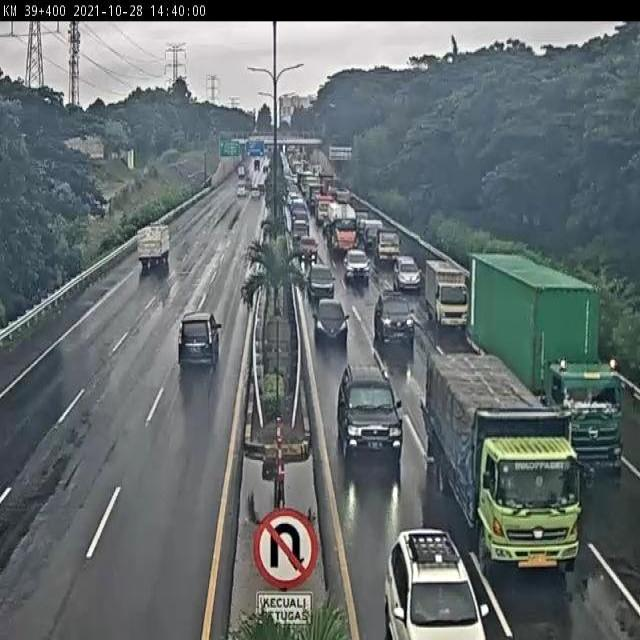big truck: (466, 251, 629, 480), (424, 351, 580, 572), (325, 196, 358, 253)
car: (336, 359, 402, 452), (178, 310, 221, 370), (375, 288, 415, 341), (314, 298, 350, 346), (394, 258, 425, 294), (307, 267, 336, 304), (342, 249, 371, 284), (298, 232, 318, 261)
small truck: (424, 261, 472, 331), (132, 223, 170, 272), (372, 226, 401, 262)
